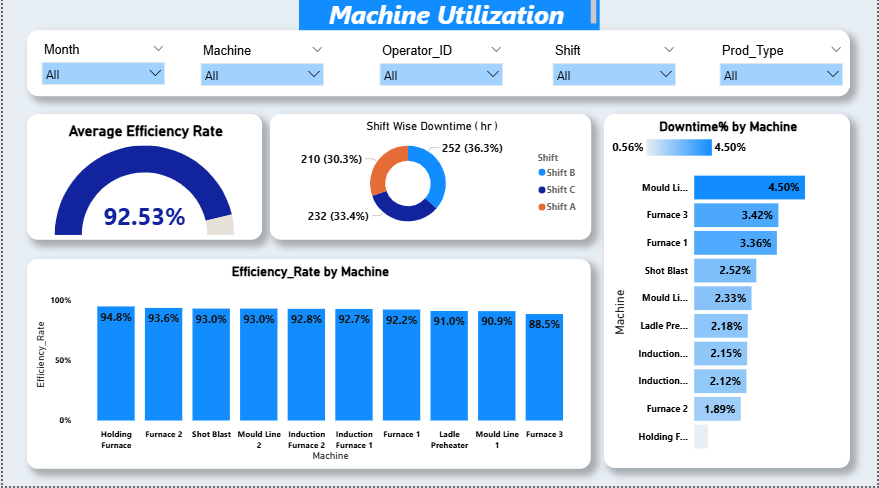

The page's visual inventory and layout, read from the dashboard file:
{"tool":"powerbi","page":{"name":"Page 3","canvas":[1280,720],"ordinal":2},"visuals":[{"type":"textbox","box":[35.1,52.7,1204.4,96.6],"z":0},{"type":"slicer","fields":{"Values":["Machine.Machine"]},"box":[279.5,67.7,200,70.2],"z":1000},{"type":"slicer","fields":{"Values":["Production.Operator_ID"]},"box":[541.5,67.7,200,70.2],"z":2000},{"type":"slicer","fields":{"Values":["Production.Shift"]},"box":[794.6,67.7,200,70.2],"z":3000},{"type":"slicer","fields":{"Values":["Product.Prod_Type"]},"box":[1039,67.7,200,70.2],"z":4000},{"type":"gauge","title":"Average Efficiency Rate","fields":{"Y":["Downtime.Efficiency_Rate"]},"box":[35.1,175.6,343.9,184.4],"z":5000},{"type":"donutChart","title":"Shift Wise Downtime ( hr )","fields":{"Y":["Downtime.Downtime_Hrs"],"Category":["Downtime.Shift"]},"box":[390.7,175.6,469.8,184.4],"z":6000},{"type":"columnChart","fields":{"Y":["Downtime.Efficiency_Rate"],"Category":["Machine.Machine"]},"box":[35.1,387.8,825.4,307.3],"z":7000},{"type":"barChart","fields":{"Category":["Machine.Machine"],"Y":["Downtime.Downtime%"]},"box":[879.5,175.6,360,518],"z":8000},{"type":"textbox","box":[433.2,0,440.5,52.7],"z":9000},{"type":"slicer","fields":{"Values":["Dim_DateTable.Month Name"]},"box":[46.8,65.9,200.5,70.2],"z":10000}]}

Visuals, with their boxes in screenshot pixels (x1, y1, x2, y2), scaled from the page's 1280x720 canvas onto the 879x488 screenshot:
textbox: BBox(24, 36, 851, 101)
slicer - Machine.Machine: BBox(192, 46, 329, 93)
slicer - Production.Operator_ID: BBox(372, 46, 509, 93)
slicer - Production.Shift: BBox(546, 46, 683, 93)
slicer - Product.Prod_Type: BBox(714, 46, 851, 93)
"Average Efficiency Rate" gauge: BBox(24, 119, 260, 244)
"Shift Wise Downtime ( hr )" donutChart: BBox(268, 119, 591, 244)
columnChart - Downtime.Efficiency_Rate x Machine.Machine: BBox(24, 263, 591, 471)
barChart - Machine.Machine x Downtime.Downtime%: BBox(604, 119, 851, 470)
textbox: BBox(297, 0, 600, 36)
slicer - Dim_DateTable.Month Name: BBox(32, 45, 170, 92)
